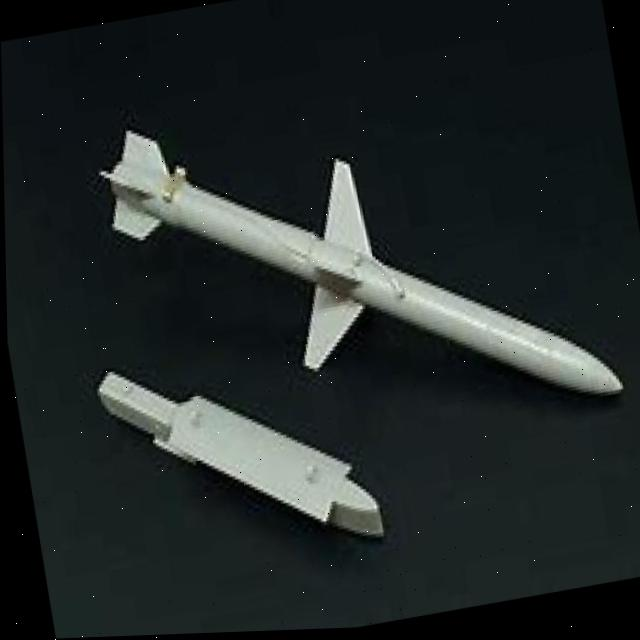missile: (93, 51, 624, 492)
